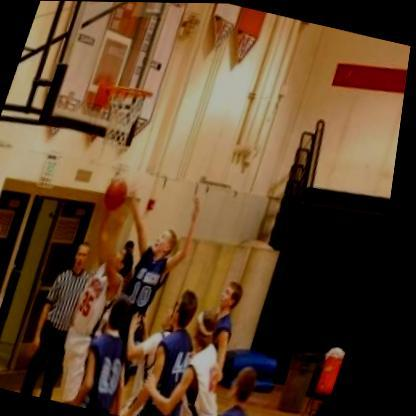basketball: (101, 170, 144, 215)
